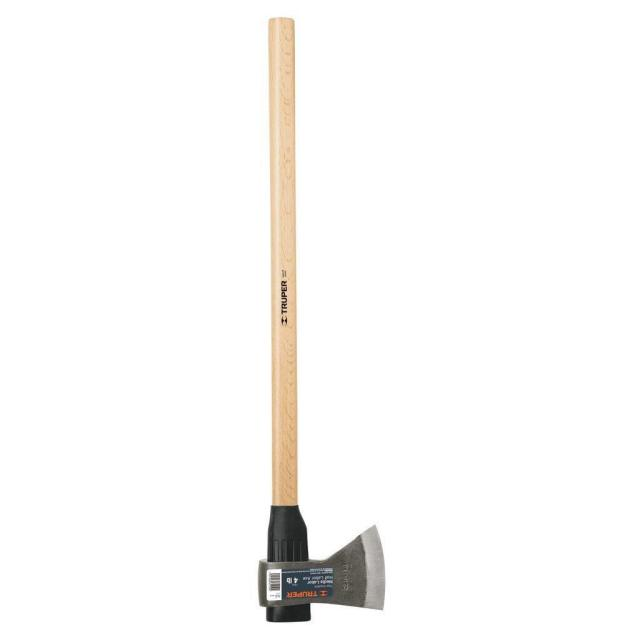Kapak: (224, 12, 452, 627)
